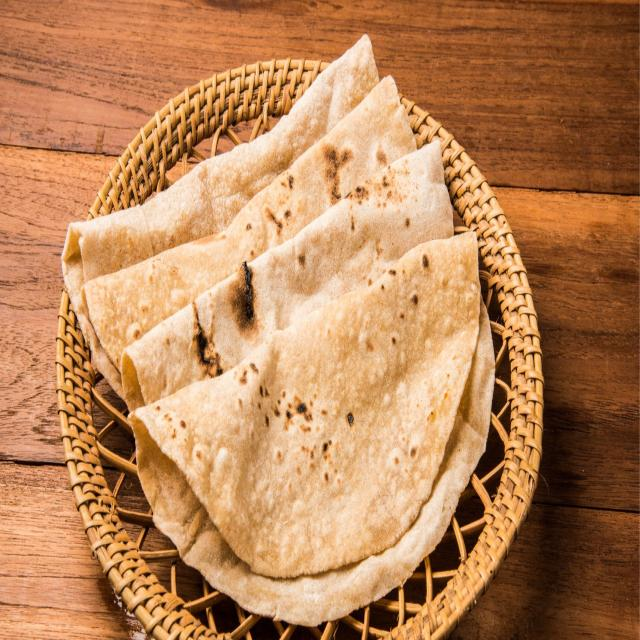CHAPATHI: (58, 38, 494, 625)
